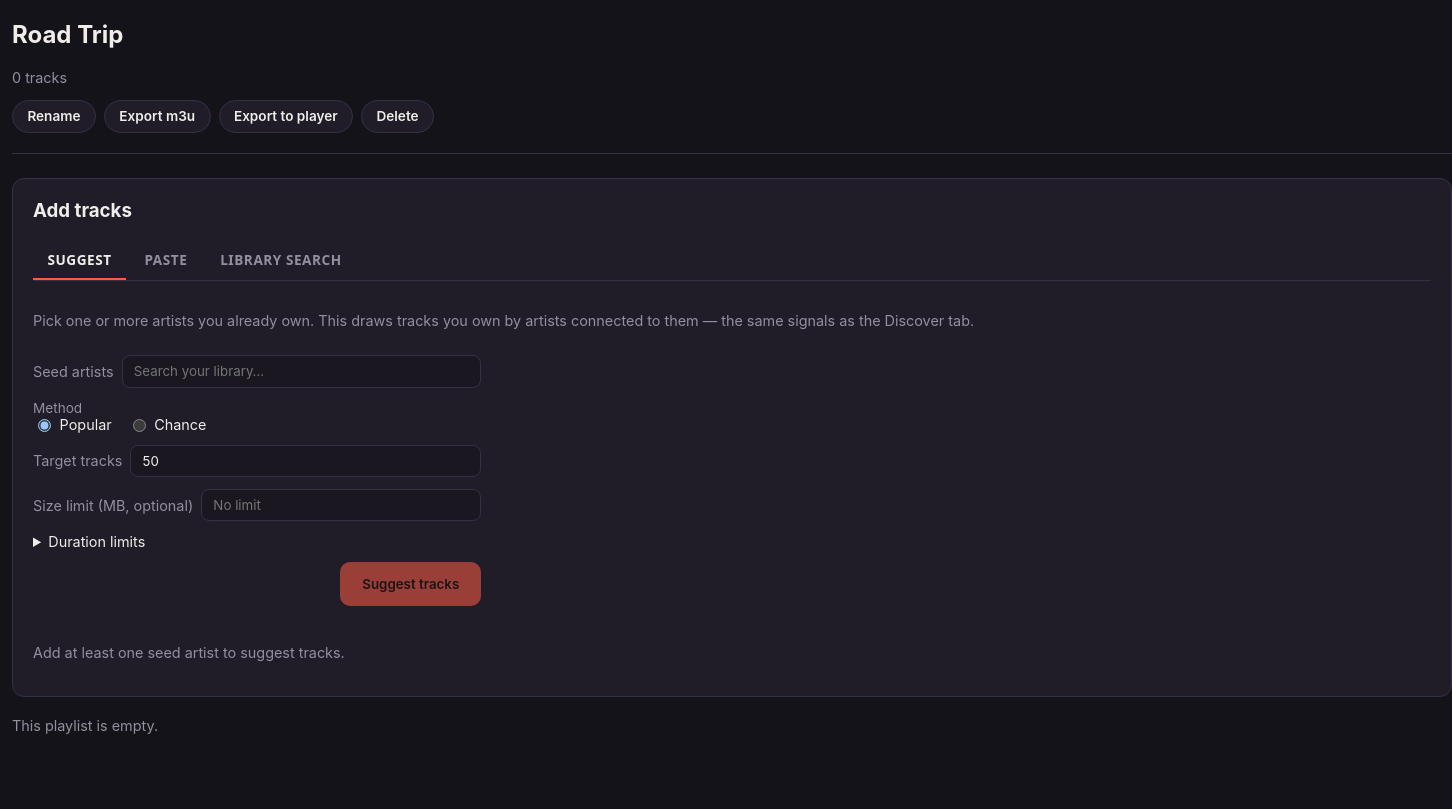
PlaylistDetail drop-off Replace gate › surfaces the 409 file count and export date as a confirmation, not a failure
Expected: the heading "Road Trip" is shown, [12,20,123,49]
Click the button "Export to player".
click(286, 116)  # box [218,100,353,133]
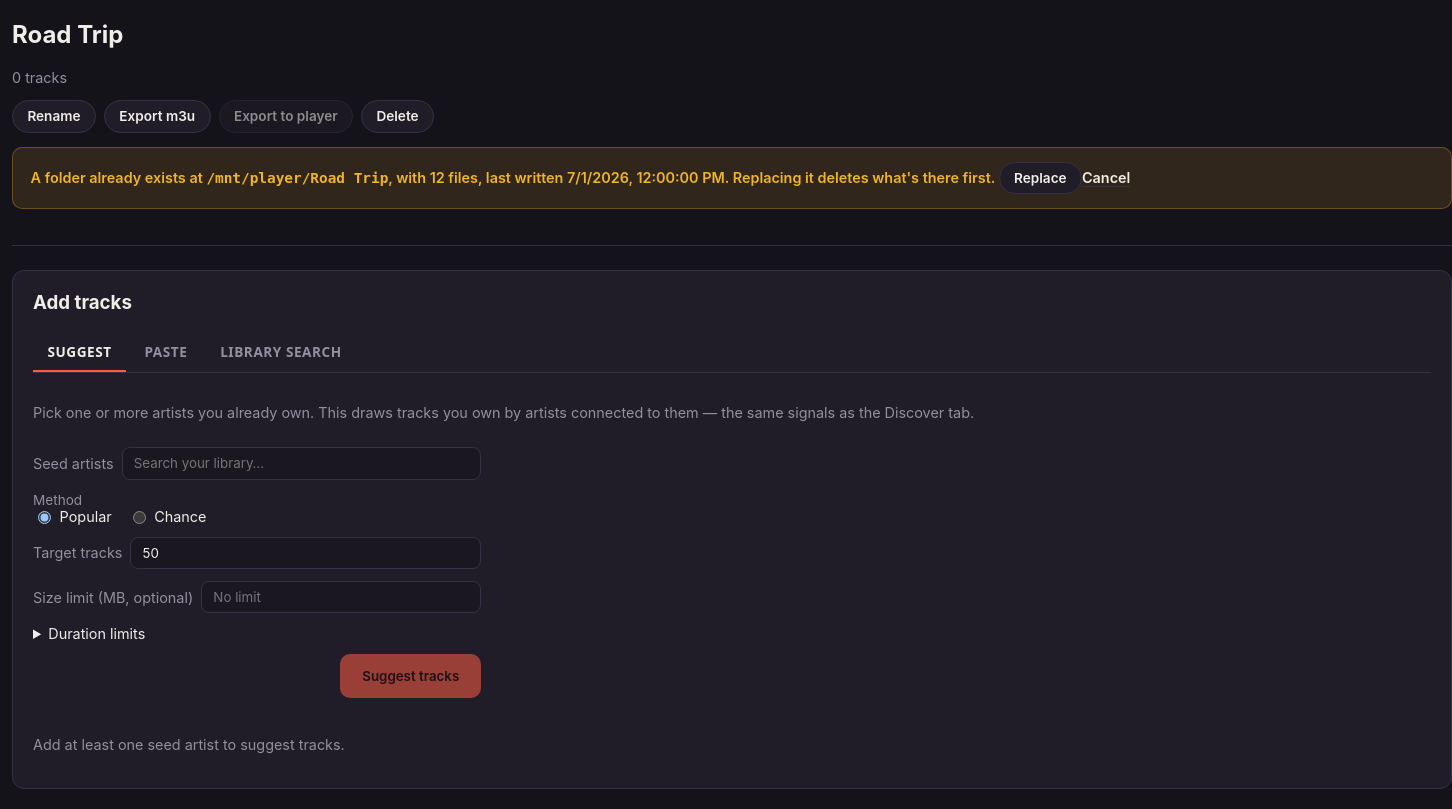
Result: the text "A folder already exists" shows "12 files" at [388,169,478,186]
